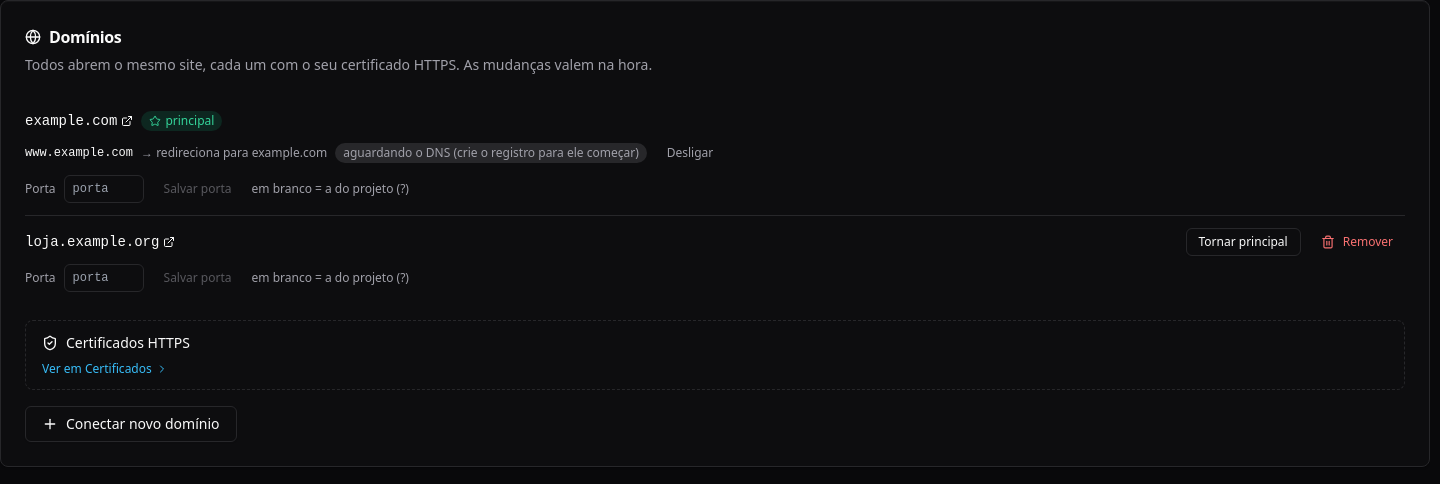
Test: ProjectDomainsCard — par com/sem www › erro ao mudar o par: mostra o aviso e não recarrega
Click the button with aria-label "Desligar o redirecionamento de www.example.com" at (690, 153), box [655,139,725,167]
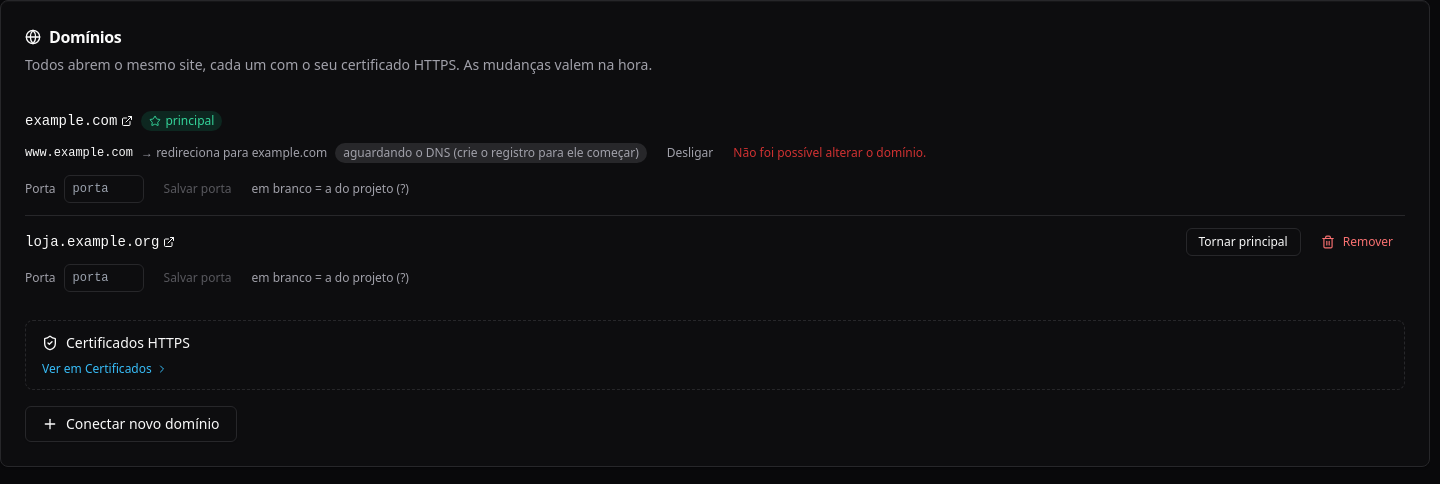
Result: the message shows "Não foi possível alterar o domínio" at [733,144,926,161]
